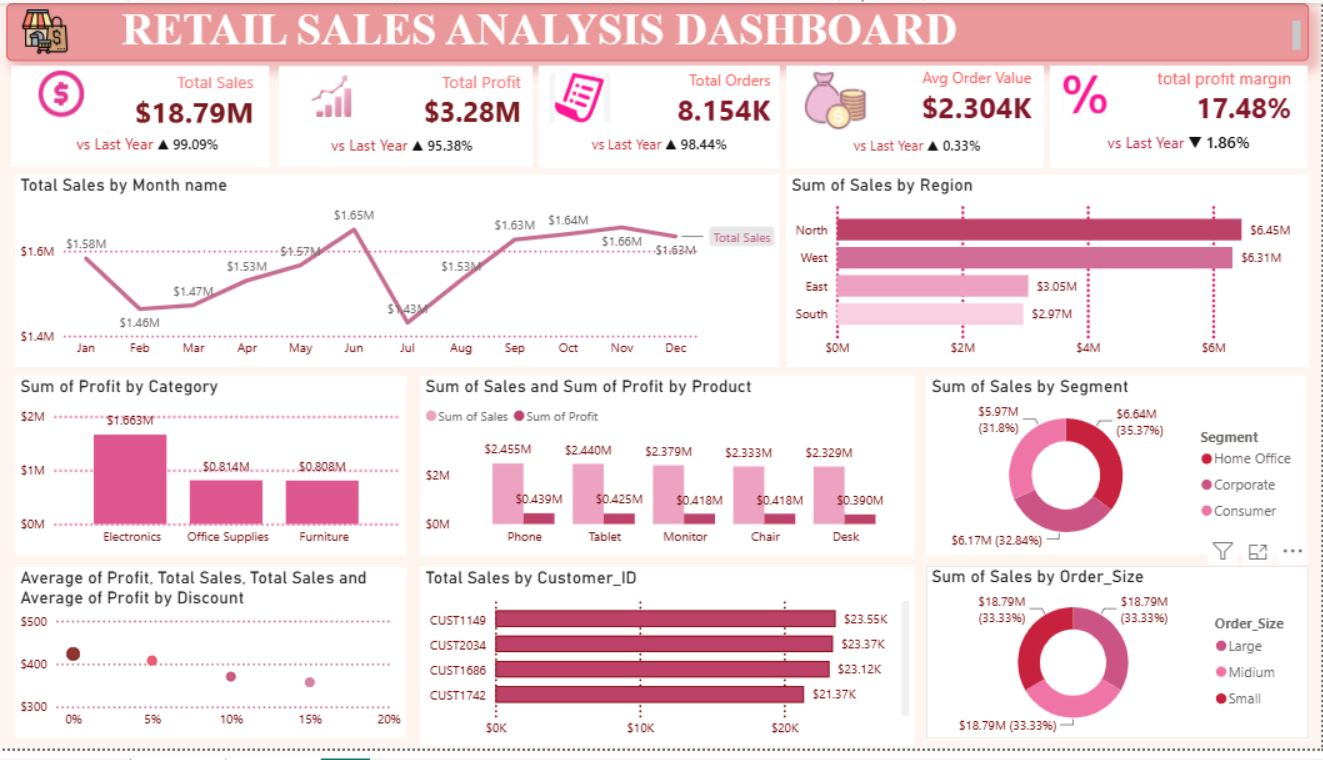

This screenshot's page, from the dashboard's own definition file:
{"tool":"powerbi","page":{"name":"Page 1","canvas":[1280,720],"ordinal":0},"visuals":[{"type":"textbox","box":[9.7,0,1258.8,55.6],"z":0},{"type":"image","box":[18.1,6,58,43.5],"z":1000},{"type":"cardVisual","fields":{"Data":["Retail_Sales_______2.Total Sales"]},"box":[9.7,55.6,259,108.7],"z":2000},{"type":"cardVisual","fields":{"Data":["DateTable.Total Profit"]},"box":[268.2,56.8,254.9,107.5],"z":4000},{"type":"image","box":[282.7,68.9,82.1,42.3],"z":5000},{"type":"cardVisual","fields":{"Data":["DateTable.Total Orders"]},"box":[524.3,60.4,233.2,99.1],"z":6000},{"type":"cardVisual","fields":{"Data":["DateTable.Avg Order Value"]},"box":[764,60,249,99],"z":7000},{"type":"cardVisual","fields":{"Data":["DateTable.total profit margin"]},"box":[1018,61,249,99],"z":8000},{"type":"lineChart","fields":{"Y":["Retail_Sales_______2.Total Sales"],"Category":["DateTable.Month name"]},"box":[18.1,165.5,739.3,186],"z":9000},{"type":"clusteredBarChart","fields":{"Category":["Retail_Sales_______2.Region"],"Y":["Sum(Retail_Sales_______2.Sales)"]},"box":[763.5,165.5,505,186],"z":10000},{"type":"columnChart","fields":{"Category":["Retail_Sales_______2.Category"],"Y":["Sum(Retail_Sales_______2.Profit)"]},"box":[17.9,360.2,378.1,173.2],"z":11000},{"type":"clusteredColumnChart","fields":{"Category":["Retail_Sales_______2.Product"],"Y":["Sum(Retail_Sales_______2.Sales)","Sum(Retail_Sales_______2.Profit)"]},"box":[409.7,360.2,478.5,173.2],"z":12000},{"type":"donutChart","fields":{"Category":["Retail_Sales_______2.Segment"],"Y":["Sum(Retail_Sales_______2.Sales)"]},"box":[899.2,360.2,367.1,173.2],"z":13000},{"type":"scatterChart","fields":{"X":["Retail_Sales_______2.Discount"],"Y":["Avg(Retail_Sales_______2.Profit)"],"Size":["Retail_Sales_______2.Total Sales"]},"box":[17.9,544.4,378.1,165],"z":14000},{"type":"clusteredBarChart","fields":{"Category":["Retail_Sales_______2.Customer_ID"],"Y":["Retail_Sales_______2.Total Sales"]},"box":[409.7,544.4,478.5,173.2],"z":15000},{"type":"donutChart","fields":{"Category":["retail_sales retail__sales.Order_Size"],"Y":["Sum(Retail_Sales_______2.Sales)"]},"box":[899.2,543.1,369.8,167.7],"z":16000},{"type":"image","box":[779.2,54.4,64,79.7],"z":18000},{"type":"image","box":[9.7,65.2,106.3,44.7],"z":19001},{"type":"image","box":[535.2,60.4,58,61.6],"z":19002},{"type":"image","box":[1030.5,65.2,43.5,45.9],"z":19003}]}

Visuals, with their boxes in screenshot pixels (x1, y1, x2, y2), scaled from the page's 1280x720 canvas onto the 1323x760 screenshot:
textbox: left=10, top=0, right=1311, bottom=59
image: left=19, top=6, right=79, bottom=52
cardVisual - Retail_Sales_______2.Total Sales: left=10, top=59, right=278, bottom=173
cardVisual - DateTable.Total Profit: left=277, top=60, right=541, bottom=173
image: left=292, top=73, right=377, bottom=117
cardVisual - DateTable.Total Orders: left=542, top=64, right=783, bottom=168
cardVisual - DateTable.Avg Order Value: left=790, top=63, right=1047, bottom=168
cardVisual - DateTable.total profit margin: left=1052, top=64, right=1310, bottom=169
lineChart - Retail_Sales_______2.Total Sales x DateTable.Month name: left=19, top=175, right=783, bottom=371
clusteredBarChart - Retail_Sales_______2.Region x Sum(Retail_Sales_______2.Sales): left=789, top=175, right=1311, bottom=371
columnChart - Retail_Sales_______2.Category x Sum(Retail_Sales_______2.Profit): left=19, top=380, right=409, bottom=563
clusteredColumnChart - Retail_Sales_______2.Product x Sum(Retail_Sales_______2.Sales): left=423, top=380, right=918, bottom=563
donutChart - Retail_Sales_______2.Segment x Sum(Retail_Sales_______2.Sales): left=929, top=380, right=1309, bottom=563
scatterChart - Retail_Sales_______2.Discount x Avg(Retail_Sales_______2.Profit): left=19, top=575, right=409, bottom=749
clusteredBarChart - Retail_Sales_______2.Customer_ID x Retail_Sales_______2.Total Sales: left=423, top=575, right=918, bottom=757
donutChart - retail_sales retail__sales.Order_Size x Sum(Retail_Sales_______2.Sales): left=929, top=573, right=1312, bottom=750
image: left=805, top=57, right=872, bottom=142
image: left=10, top=69, right=120, bottom=116
image: left=553, top=64, right=613, bottom=129
image: left=1065, top=69, right=1110, bottom=117
